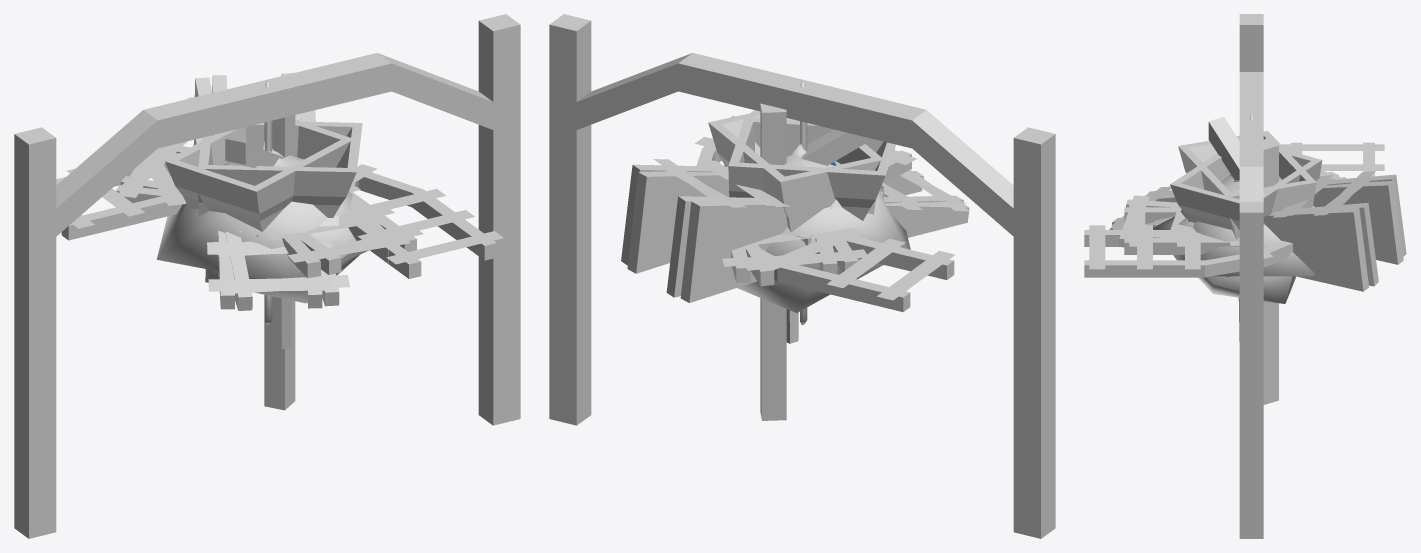
File: MineProps_fbx.fbx
The picture shows the model from 3 angles, left to right: view 1: azimuth 30°, elevation 25°; view 2: azimuth 150°, elevation 25°; view 3: azimuth 270°, elevation 25°; orthographic projection. The views are drawn at different scales.
Parts seen in each view (by area): view 1: SupportBeam2, Cart_rusty, RockPile, Track_Curve_90_degrees_Rusty, Cart, Track_Curve_90_degrees, SupportBeam, Track_Curve_45_degrees, Track_ramp_15_degrees, Track_ramp_15_degrees_Rusty, Track_Curve_45_degrees_Rusty, Crystal Source; view 2: SupportBeam2, Track_ramp_15_degrees, Track_ramp_15_degrees_Rusty, Track_Curve_90_degrees_Rusty, SupportBeam, Cart_rusty, Cart, Track_Curve_90_degrees, RockPile, Track_Curve_45_degrees, Track_Curve_45_degrees_Rusty, Crystal Source; view 3: SupportBeam2, Track_ramp_15_degrees_Rusty, Track_Curve_90_degrees_Rusty, Cart, SupportBeam, Cart_rusty, Track_ramp_15_degrees, Track_Curve_45_degrees, RockPile, Crystal Source, Track_Curve_90_degrees, Track_Curve_45_degrees_Rusty.
Boxes of the visible parts, x1,y1,x2,y2 form: SupportBeam2: (14,14,520,538); Cart_rusty: (165,119,354,232); RockPile: (156,159,368,278); Track_Curve_90_degrees_Rusty: (56,152,503,264); Cart: (198,121,362,217); Track_Curve_90_degrees: (61,163,496,278); SupportBeam: (225,115,295,410); Track_Curve_45_degrees: (116,146,423,274); Track_ramp_15_degrees: (187,72,349,310); Track_ramp_15_degrees_Rusty: (201,75,333,309); Track_Curve_45_degrees_Rusty: (120,141,410,278); Crystal Source: (205,214,359,303); SupportBeam2: (549,14,1055,538); Track_ramp_15_degrees: (627,165,965,302); Track_ramp_15_degrees_Rusty: (621,159,969,297); Track_Curve_90_degrees_Rusty: (695,110,955,311); SupportBeam: (760,103,872,420); Cart_rusty: (728,117,895,220); Cart: (708,111,883,232); Track_Curve_90_degrees: (711,116,954,311); RockPile: (766,156,910,285); Track_Curve_45_degrees: (743,149,901,286); Track_Curve_45_degrees_Rusty: (722,150,917,283); Crystal Source: (737,162,881,312); SupportBeam2: (1239,14,1263,538); Track_ramp_15_degrees_Rusty: (1111,176,1403,291); Track_Curve_90_degrees_Rusty: (1084,142,1384,277); Cart: (1170,139,1322,229); SupportBeam: (1208,117,1278,404); Cart_rusty: (1178,131,1316,239); Track_ramp_15_degrees: (1109,171,1406,286); Track_Curve_45_degrees: (1124,171,1342,254); RockPile: (1173,176,1314,276); Crystal Source: (1153,216,1295,303); Track_Curve_90_degrees: (1084,143,1384,269); Track_Curve_45_degrees_Rusty: (1117,174,1346,247).
Size of the model in its own units: 3.9 by 2.99 by 2.67.
